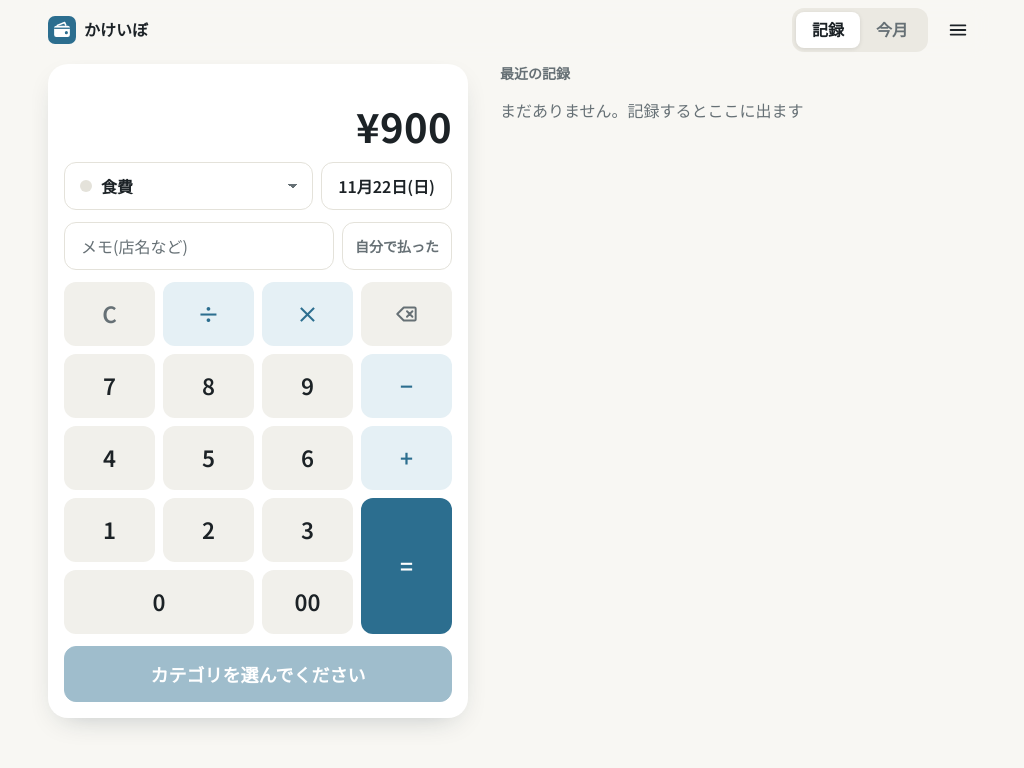
Test: 未精算 › 「自分で払った」を選んで記録すると未精算になり、次の記録では元に戻る
This screenshot has width=1024, height=768.
Select "食費" in the dropdown at point(189, 186), box [64,162,313,210]
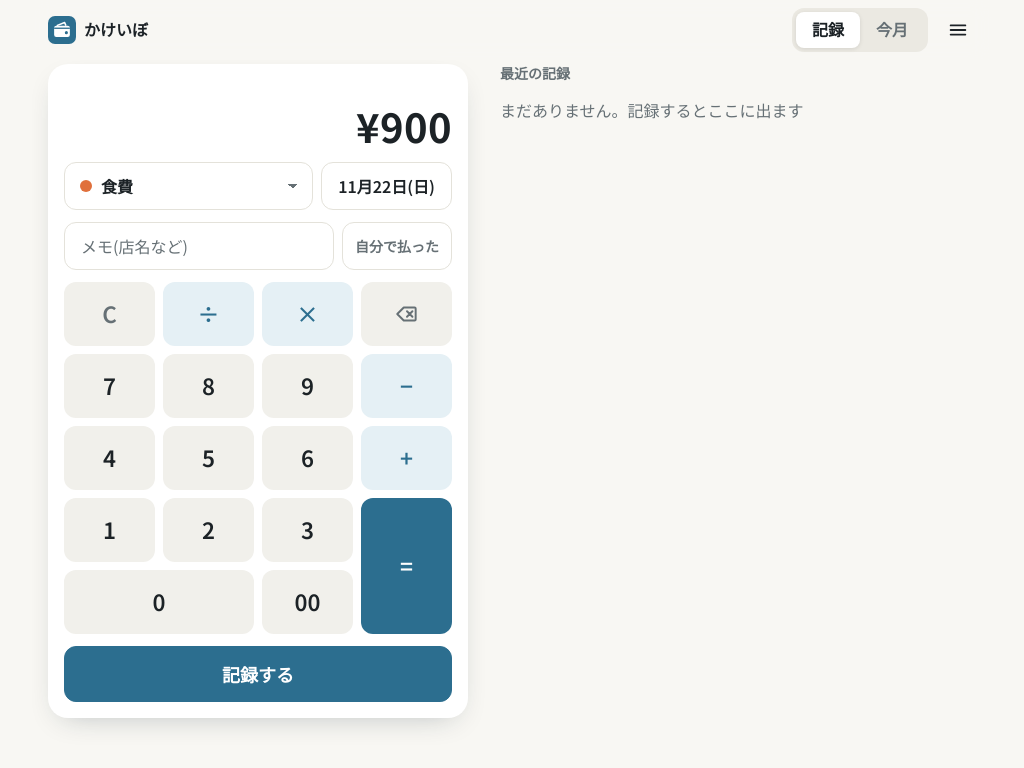
Click the button "自分で払った" at point(397, 246), box [342,222,452,270]
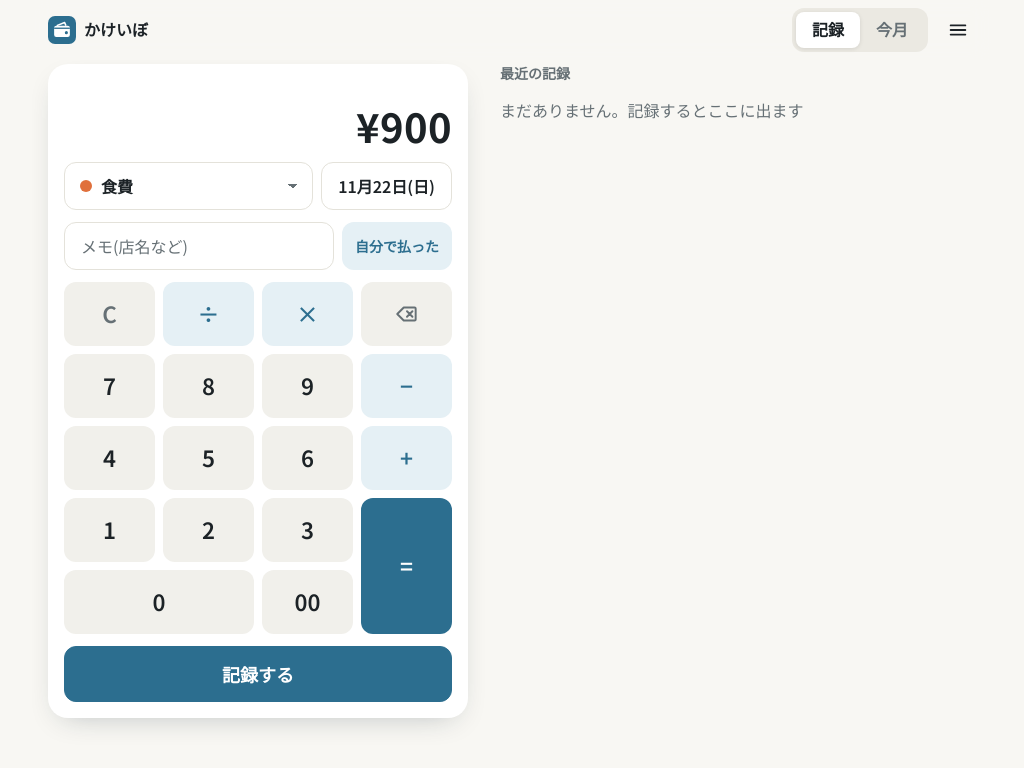
Expected: the button "自分で払った" is pressed, [342,222,452,270]
Click the button with class "submit" at point(258, 674), box [64,646,452,702]
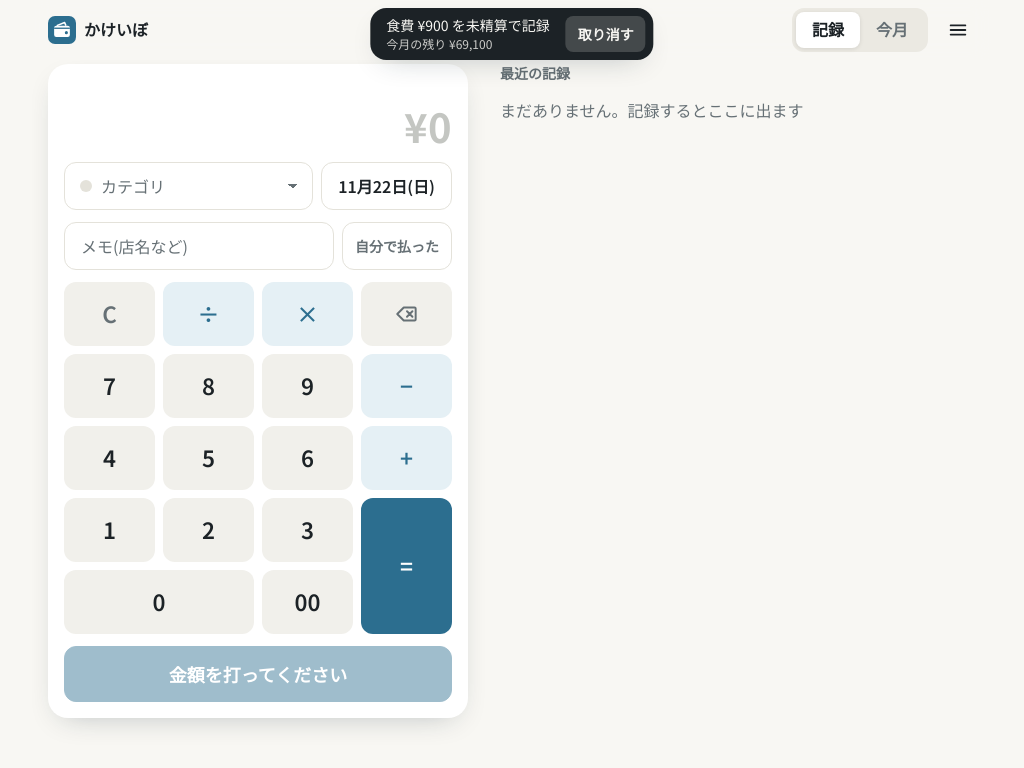
Expected: the message with class "toast" shows "食費 ¥900 を未精算で記録", [386,15,550,35]
Expected: the message with class "toast" shows "今月の残り ¥69,100", [386,35,492,52]
